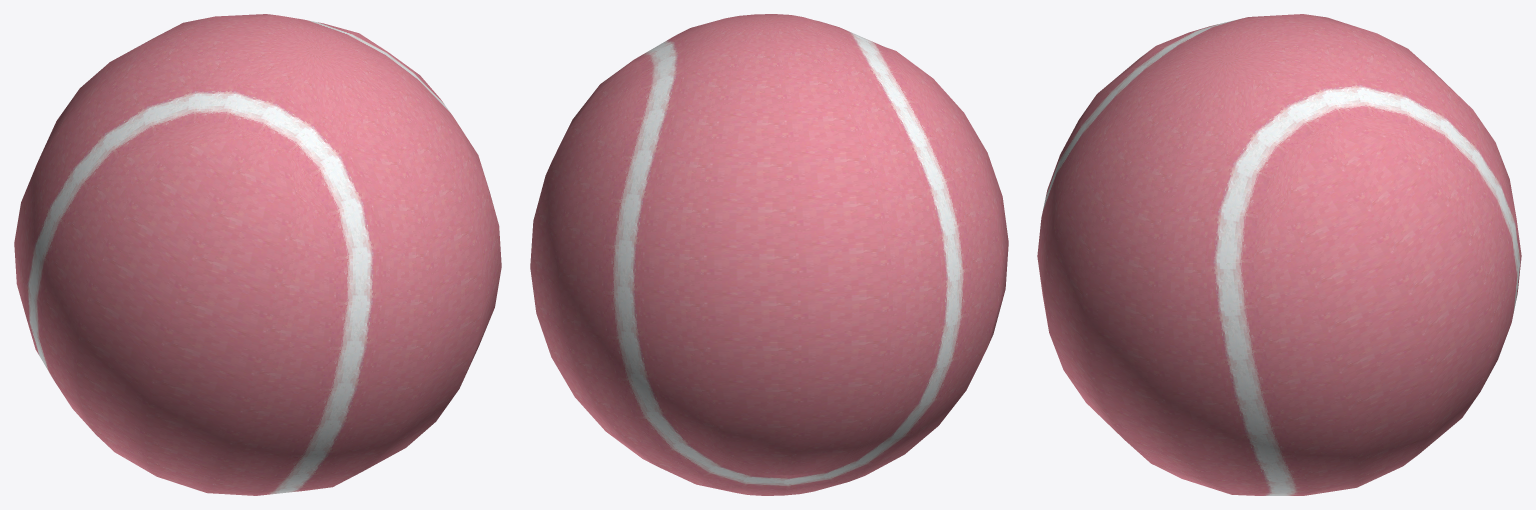
3 views of the same model, side by side, from view 1: azimuth 30°, elevation 25°; view 2: azimuth 150°, elevation 25°; view 3: azimuth 270°, elevation 25° (orthographic).
Visible parts, largest first — view 1: Joint_0_Object_0, Joint_0_Object_1; view 2: Joint_0_Object_0, Joint_0_Object_1; view 3: Joint_0_Object_0, Joint_0_Object_1.
Part boxes in pixels (box(x1,y1,x2,y2)): Joint_0_Object_0: box(14, 14, 501, 495); Joint_0_Object_1: box(24, 19, 452, 495); Joint_0_Object_0: box(530, 14, 1008, 495); Joint_0_Object_1: box(603, 27, 971, 489); Joint_0_Object_0: box(1037, 14, 1516, 495); Joint_0_Object_1: box(1041, 17, 1521, 495).
Size of the model in its own units: 204 by 206 by 205.
1 material, 1 textured.
